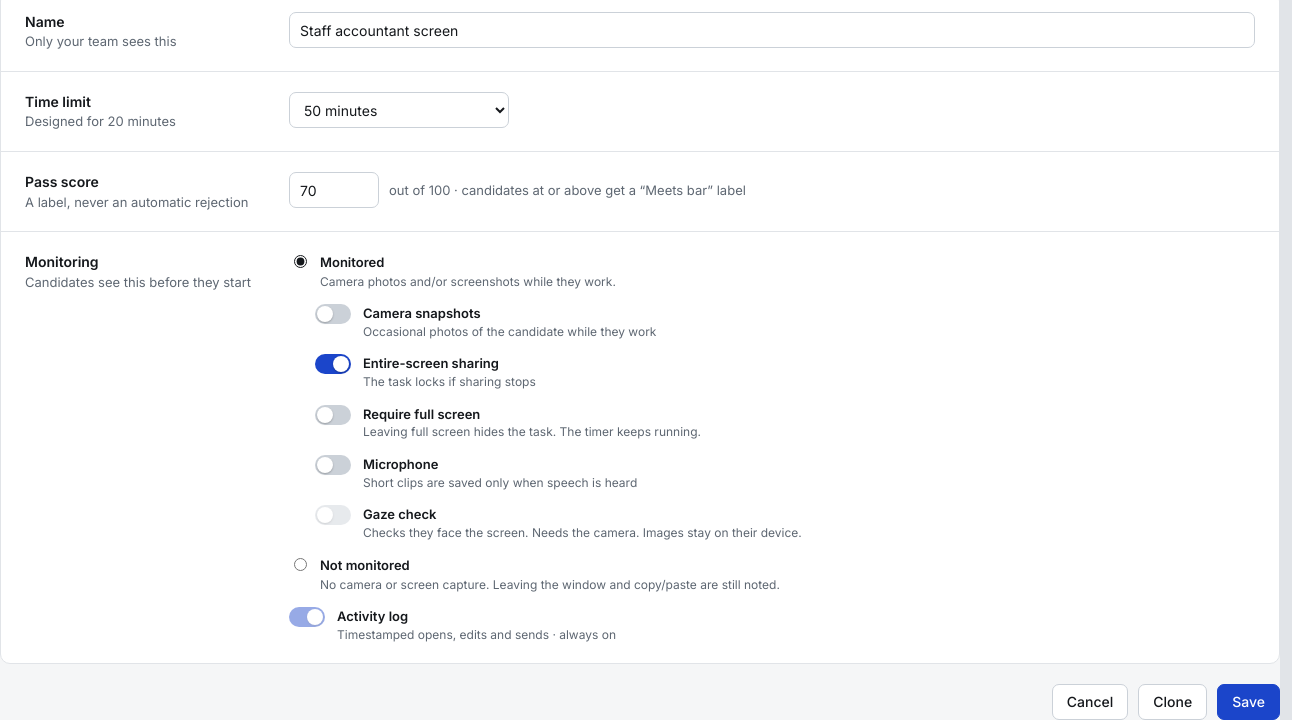
ConfigureAssessmentForm: an existing assessment › shows the locked error the server returns
The image size is (1292, 720).
(page scrolled)
What coordinates should you click on to do the following:
click the button "Save"
I would click on:
 (1249, 702)
Its box is [1217,684,1280,719].
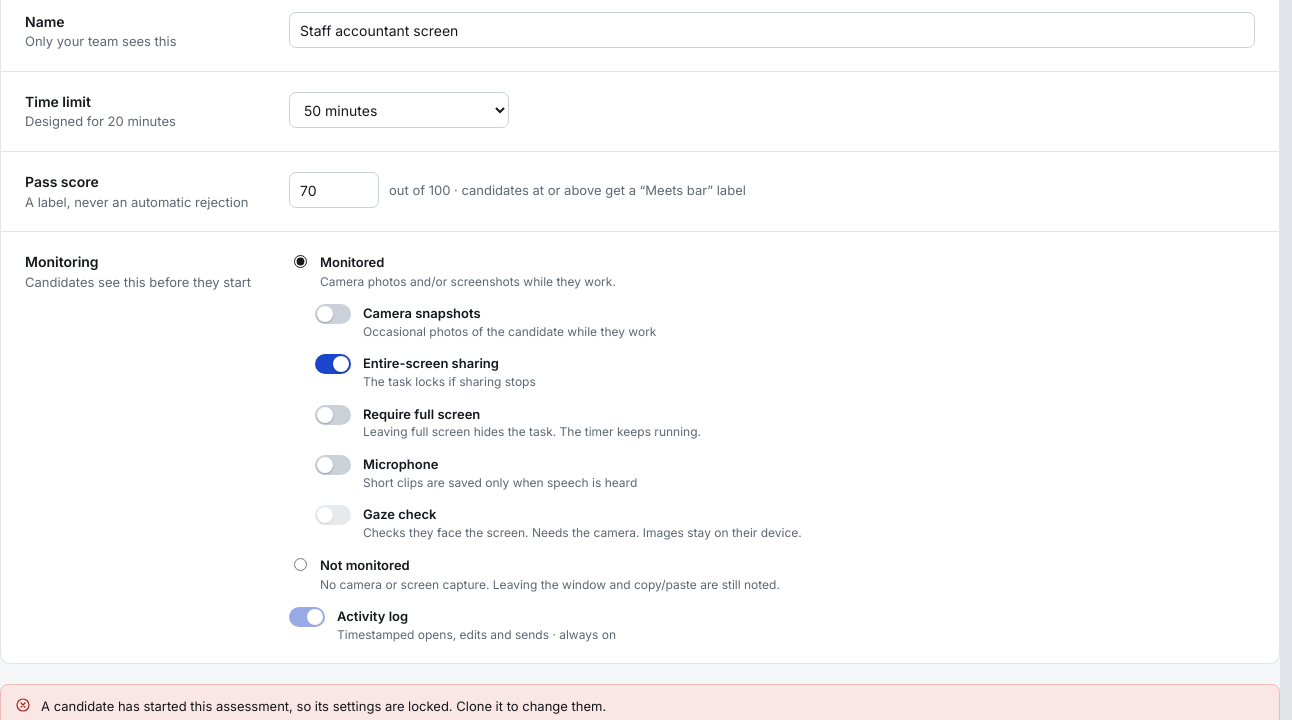
Check: the text "its settings are locked" is shown, box [41,698,606,714]
